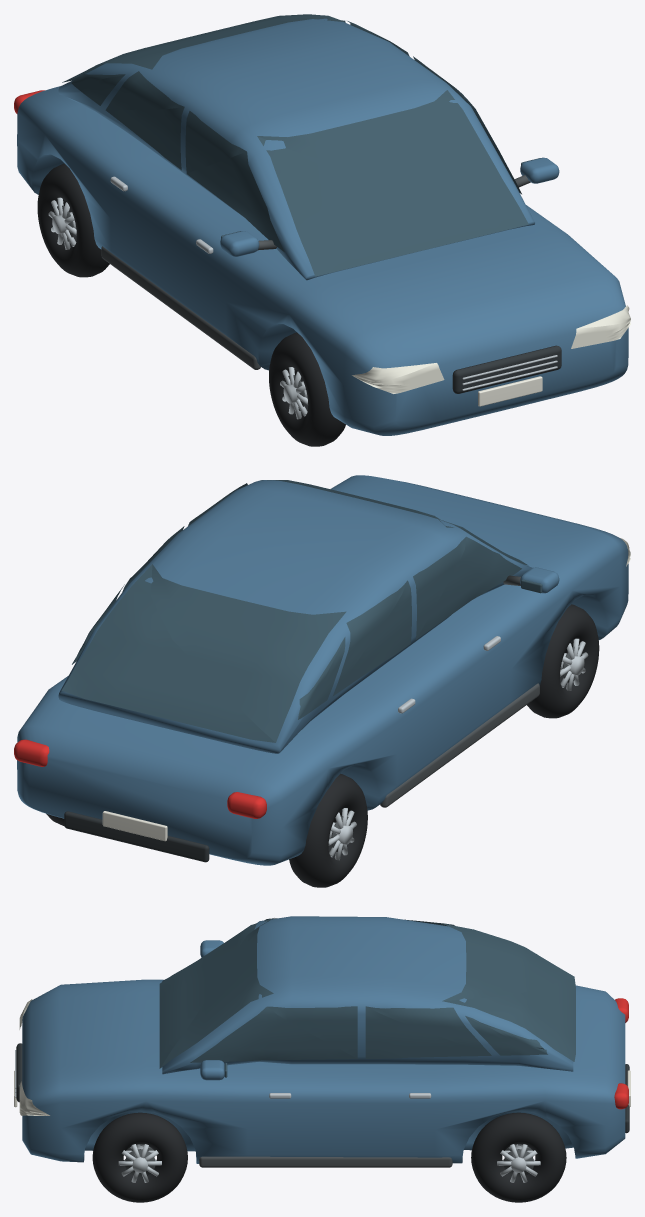
File: Auto.glb
3 views of the same model, one above another, from view 1: azimuth 30°, elevation 25°; view 2: azimuth 150°, elevation 25°; view 3: azimuth 270°, elevation 25° (orthographic). The views are drawn at different scales.
Parts seen in each view (by area): view 1: Auto_Schieferblau, Auto_Getoentes Glas, Rad_Vorn_R_Reifen, Rad_Hinten_R_Reifen, Auto_Scheinwerfer, Auto_Pulverbeschichteter Stahl, Auto_Kunststoff anthrazit, Auto_Satin-Aluminium, Auto_Cremeweiss, Rad_Hinten_R_Satin-Aluminium, Rad_Vorn_R_Satin-Aluminium; view 2: Auto_Schieferblau, Auto_Getoentes Glas, Rad_Hinten_R_Reifen, Rad_Vorn_R_Reifen, Auto_Pulverbeschichteter Stahl, Auto_Kunststoff anthrazit, Auto_Ruecklicht, Auto_Cremeweiss, Rad_Vorn_R_Satin-Aluminium, Rad_Hinten_R_Satin-Aluminium; view 3: Auto_Schieferblau, Auto_Getoentes Glas, Rad_Hinten_L_Reifen, Rad_Vorn_L_Reifen, Auto_Pulverbeschichteter Stahl, Rad_Hinten_L_Satin-Aluminium, Rad_Vorn_L_Satin-Aluminium, Auto_Kunststoff anthrazit, Auto_Ruecklicht, Auto_Scheinwerfer.
Boxes of the visible parts, box(x1,y1,x2,y2) form: Auto_Schieferblau: box(17, 18, 628, 435); Auto_Getoentes Glas: box(62, 14, 540, 276); Rad_Vorn_R_Reifen: box(269, 332, 345, 446); Rad_Hinten_R_Reifen: box(37, 163, 109, 277); Auto_Scheinwerfer: box(352, 305, 630, 393); Auto_Pulverbeschichteter Stahl: box(101, 175, 530, 369); Auto_Kunststoff anthrazit: box(452, 345, 561, 393); Auto_Satin-Aluminium: box(110, 176, 557, 390); Auto_Cremeweiss: box(478, 376, 542, 406); Rad_Hinten_R_Satin-Aluminium: box(48, 197, 76, 249); Rad_Vorn_R_Satin-Aluminium: box(280, 367, 307, 419); Auto_Schieferblau: box(17, 475, 628, 865); Auto_Getoentes Glas: box(61, 480, 542, 742); Rad_Hinten_R_Reifen: box(289, 773, 367, 887); Rad_Vorn_R_Reifen: box(527, 604, 599, 718); Auto_Pulverbeschichteter Stahl: box(380, 575, 539, 807); Auto_Kunststoff anthrazit: box(64, 811, 209, 862); Auto_Ruecklicht: box(14, 739, 266, 818); Auto_Cremeweiss: box(102, 811, 167, 841); Rad_Vorn_R_Satin-Aluminium: box(560, 638, 588, 690); Rad_Hinten_R_Satin-Aluminium: box(328, 808, 356, 860); Auto_Schieferblau: box(22, 916, 625, 1163); Auto_Getoentes Glas: box(159, 918, 575, 1077); Rad_Hinten_L_Reifen: box(471, 1112, 566, 1202); Rad_Vorn_L_Reifen: box(92, 1112, 187, 1202); Auto_Pulverbeschichteter Stahl: box(199, 1156, 452, 1167); Rad_Hinten_L_Satin-Aluminium: box(497, 1144, 540, 1182); Rad_Vorn_L_Satin-Aluminium: box(118, 1144, 161, 1182); Auto_Kunststoff anthrazit: box(16, 1043, 629, 1133); Auto_Ruecklicht: box(614, 998, 628, 1109); Auto_Scheinwerfer: box(19, 999, 50, 1115).
Size of the model in its own units: 2.11 by 1.5 by 4.19.
